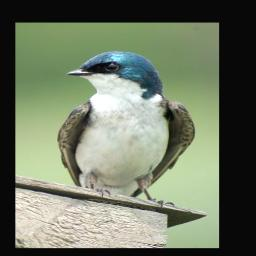Swallow: (56, 50, 195, 209)
